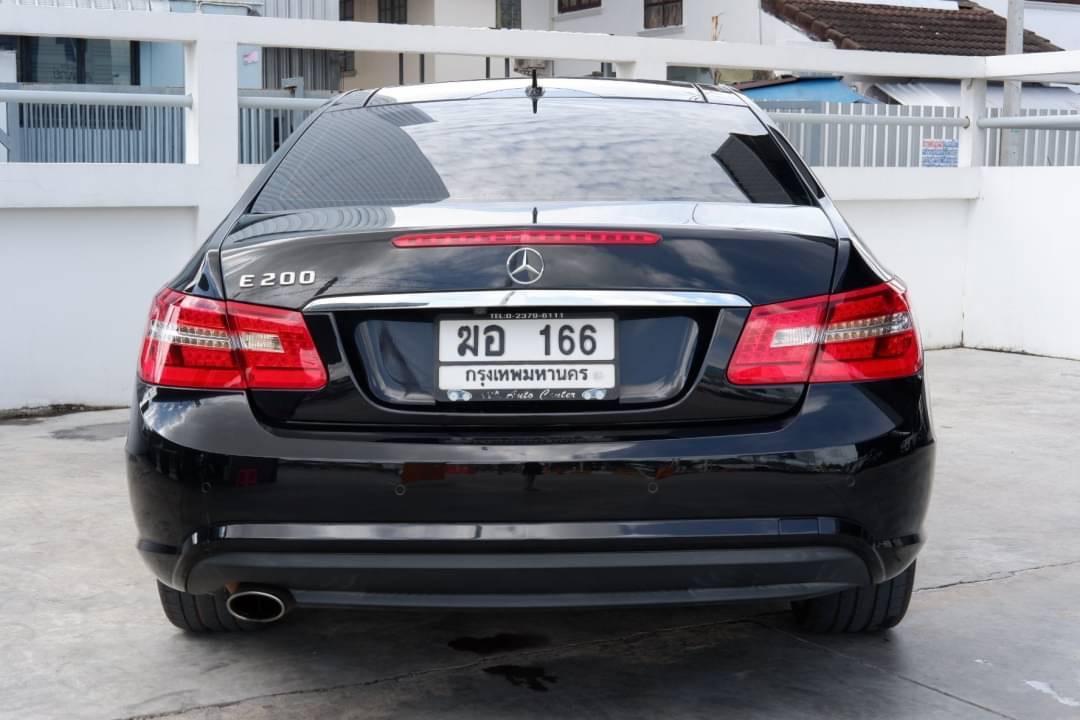license-plate: (436, 304, 618, 406)
